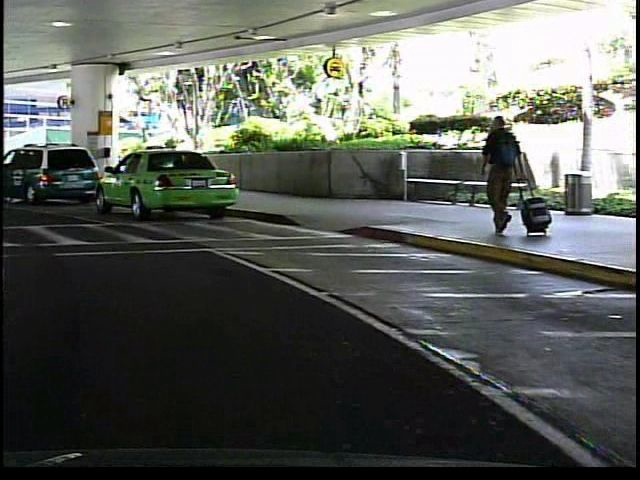person: (471, 111, 529, 245)
